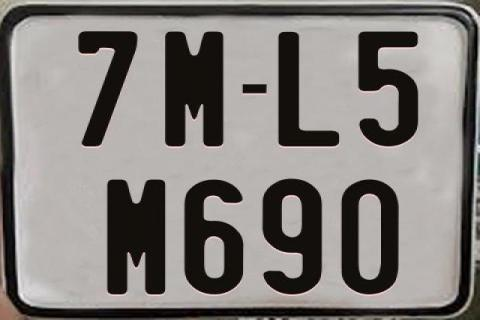0: (181, 179, 246, 297), (356, 29, 420, 147), (259, 178, 323, 296), (76, 30, 140, 146), (339, 178, 401, 294)
L: (277, 30, 338, 146)
M: (105, 178, 167, 296), (162, 31, 225, 146)
